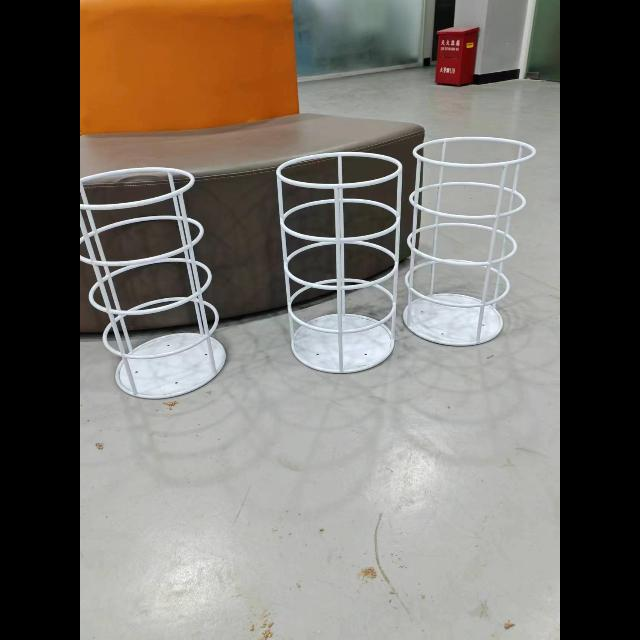S: (80, 166, 218, 400), (276, 155, 402, 375), (412, 140, 538, 350)
